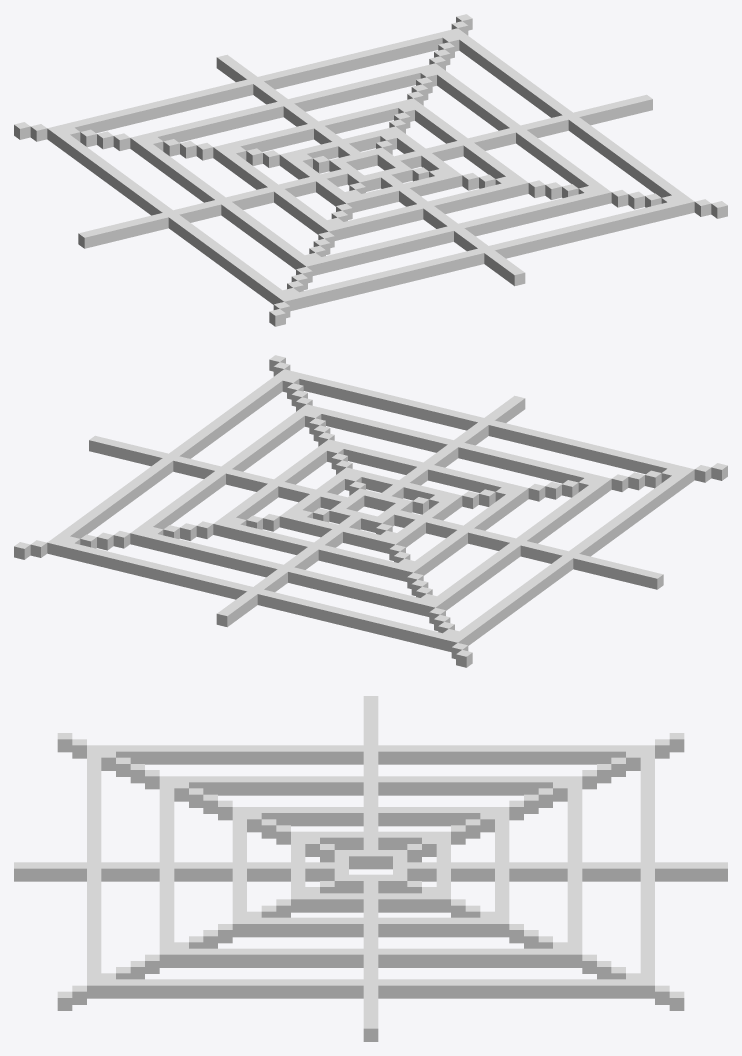
Rendered from chapter1_spiderweb.fbx.
3 renders of one model, top to bottom at view 1: azimuth 30°, elevation 25°; view 2: azimuth 150°, elevation 25°; view 3: azimuth 270°, elevation 25°, orthographic. The views are drawn at different scales.
Visible parts, largest first — view 1: Matrix; view 2: Matrix; view 3: Matrix.
Part boxes in pixels (x1,y1,x2,y2): Matrix: [14, 14, 727, 326]; Matrix: [14, 355, 727, 667]; Matrix: [14, 696, 727, 1041].
Bounding box in the file's own units: 54 × 1 × 49.
